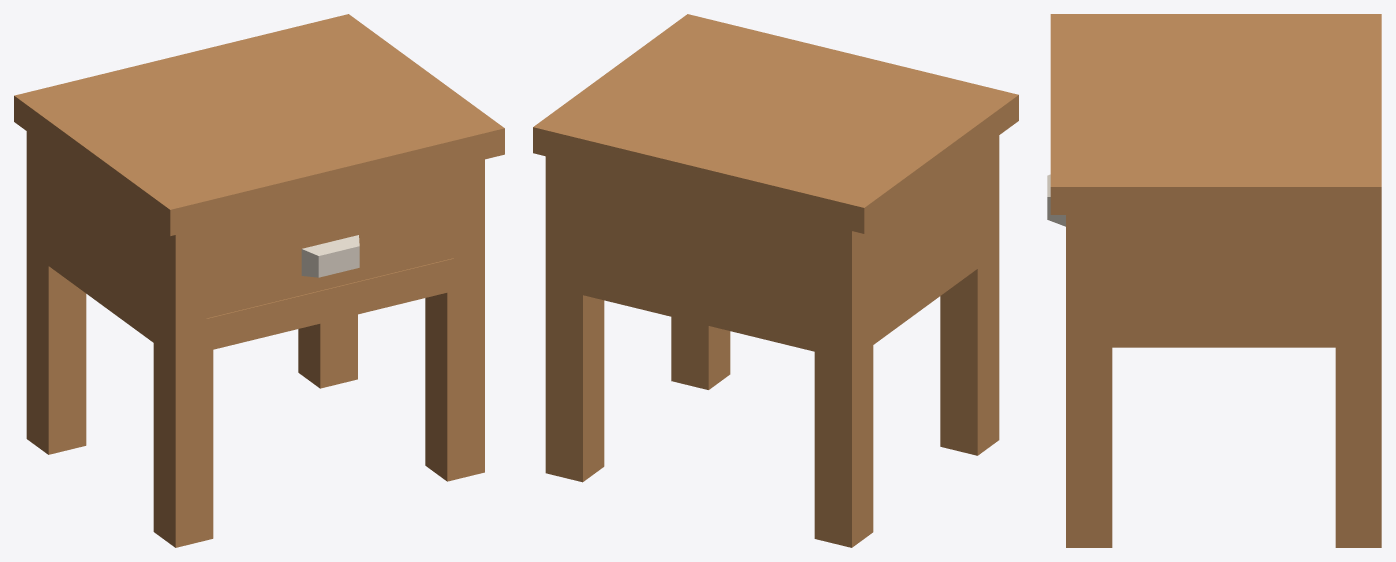
File: kitCabinetBedDrawerTable.glb
3 views of the same model, side by side, from view 1: azimuth 30°, elevation 25°; view 2: azimuth 150°, elevation 25°; view 3: azimuth 270°, elevation 25° (orthographic). The views are drawn at different scales.
Parts seen in each view (by area): view 1: kitCabinetBedDrawerTable_wood, kitCabinetBedDrawerTable_metal; view 2: kitCabinetBedDrawerTable_wood; view 3: kitCabinetBedDrawerTable_wood.
Part boxes in pixels (x1,y1,x2,y2): kitCabinetBedDrawerTable_wood: (14, 14, 504, 547); kitCabinetBedDrawerTable_metal: (301, 235, 359, 277); kitCabinetBedDrawerTable_wood: (533, 14, 1018, 547); kitCabinetBedDrawerTable_wood: (1050, 14, 1381, 547).
Size of the model in its own units: 0.532 by 0.5264 by 0.4346.
